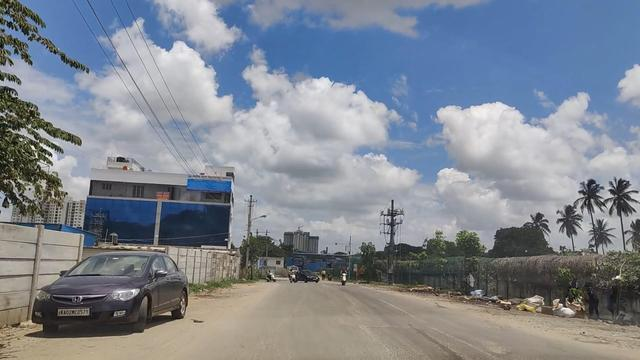LMV: (42, 229, 194, 344)
RoadDamages: (338, 314, 529, 360)
